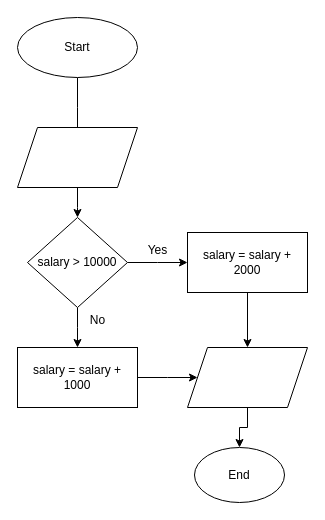
This 325x520 diagram has some shape labels left out. The shapes that lost their labels are listed below. From the top down, each one's centre as x and y in pixels, then its label:
At pixel 77 157: "Input: salary".
At pixel 247 377: "Output: salary".
